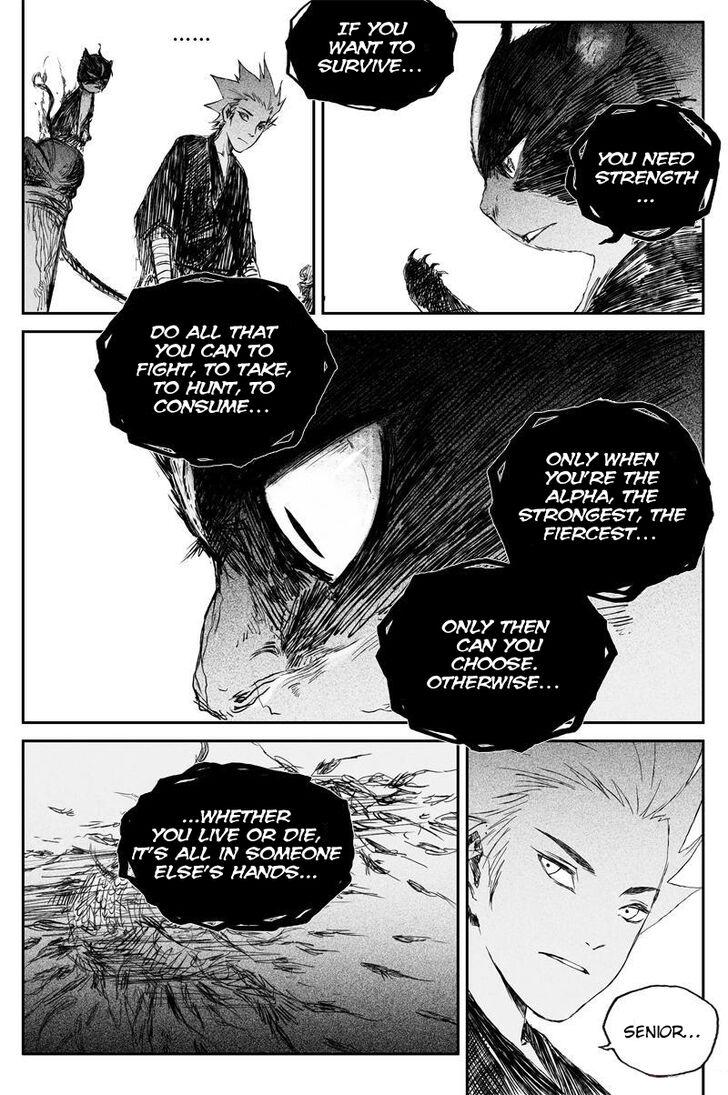Bubble: (92, 270, 338, 469), (115, 759, 356, 933), (486, 396, 716, 565), (376, 595, 619, 753), (564, 97, 722, 246), (284, 0, 457, 112), (599, 983, 719, 1078)
